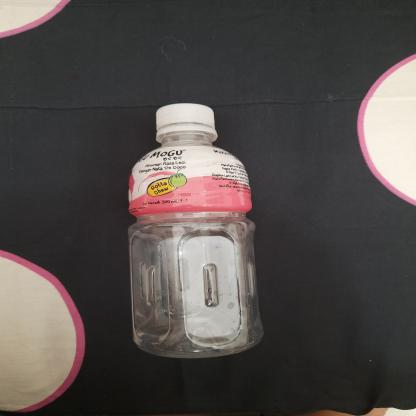bottle: (119, 99, 268, 363)
